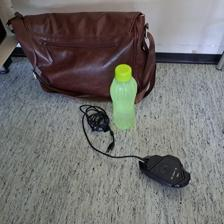bottle: (108, 63, 137, 130)
mouse: (137, 153, 192, 188)
